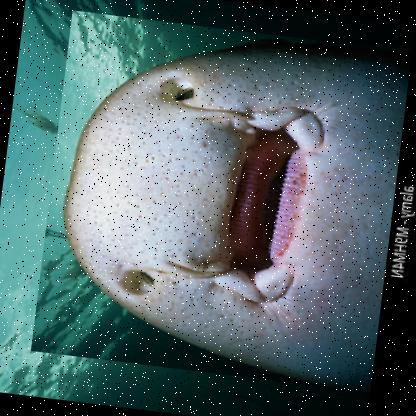zebra_shark: (30, 10, 416, 394)
